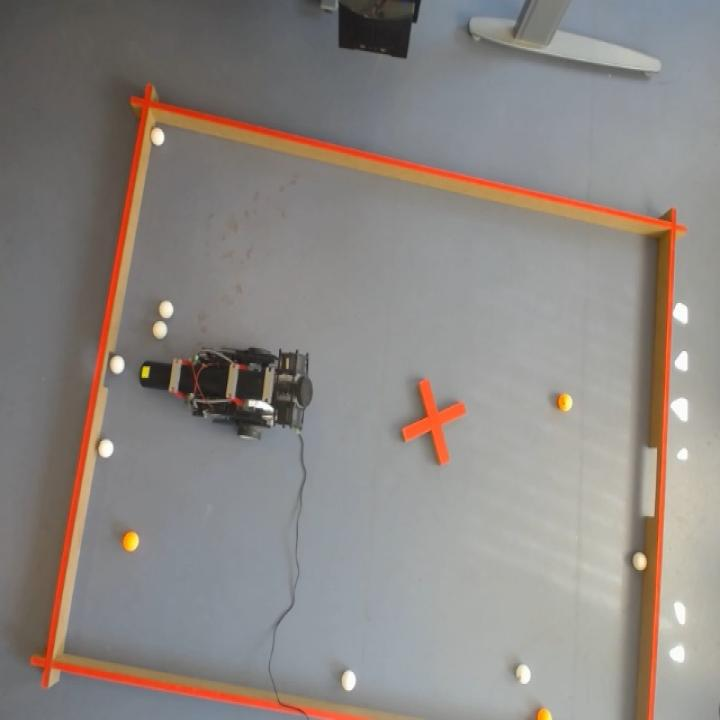orange: (122, 530, 139, 552), (557, 392, 573, 413), (533, 706, 556, 720)
robot: (140, 348, 314, 441)
robot-front: (139, 362, 167, 389)
white: (341, 669, 357, 692), (516, 662, 532, 683), (632, 552, 648, 571), (158, 300, 174, 319), (98, 439, 114, 457), (110, 355, 124, 374), (150, 127, 164, 146), (152, 321, 166, 339)
